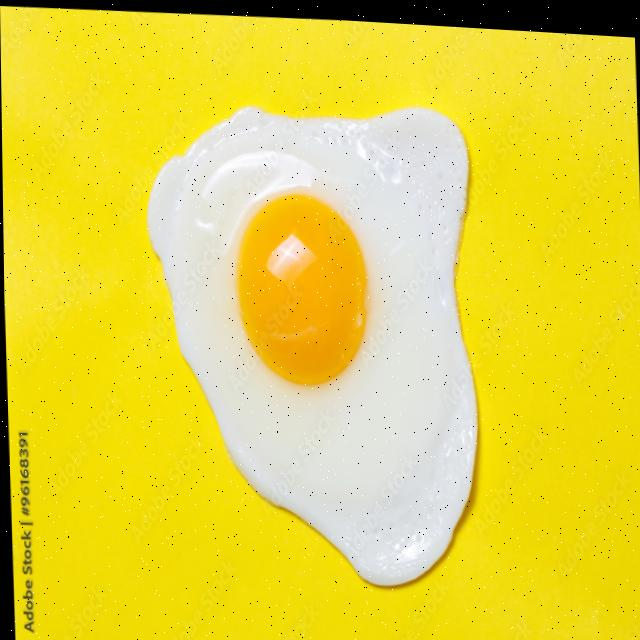Egg: (147, 102, 475, 581)
